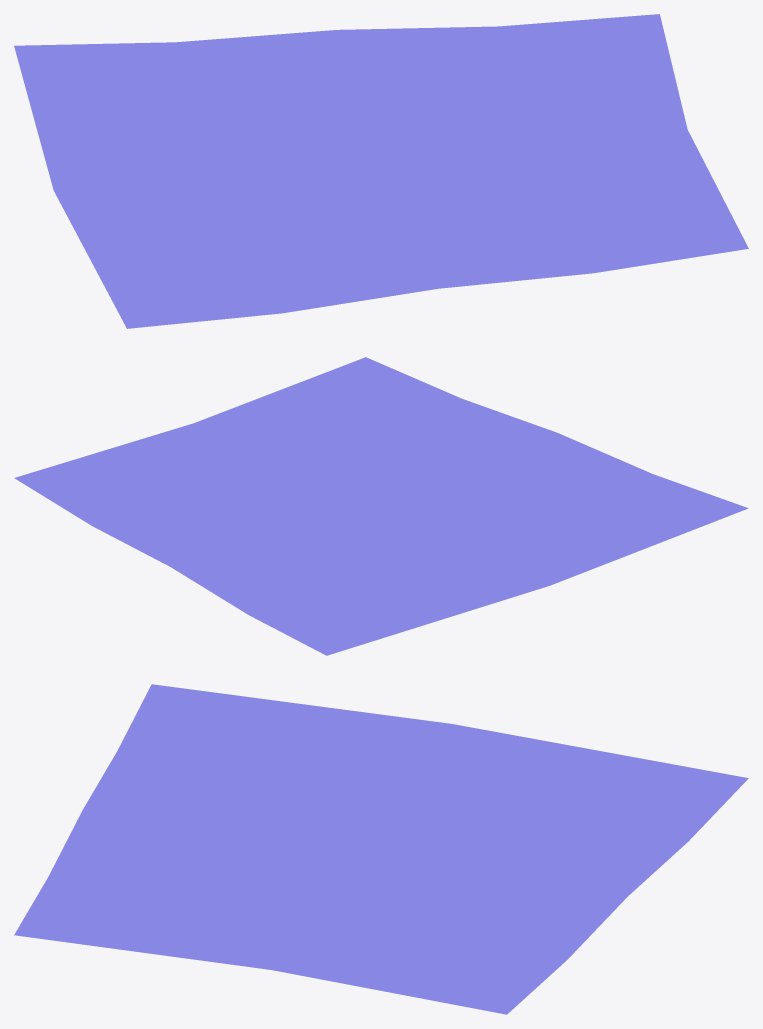
Rendered from track_la_coll_road_30.fbx.
3 renders of one model, top to bottom at view 1: azimuth 30°, elevation 25°; view 2: azimuth 150°, elevation 25°; view 3: azimuth 270°, elevation 25°, orthographic. The views are drawn at different scales.
Parts seen in each view (by area): view 1: track_la_coll_road_30; view 2: track_la_coll_road_30; view 3: track_la_coll_road_30.
Part boxes in pixels (left/top/right/bottom): track_la_coll_road_30: left=14, top=14, right=748, bottom=328; track_la_coll_road_30: left=14, top=357, right=748, bottom=655; track_la_coll_road_30: left=14, top=684, right=748, bottom=1014.
Bounding box in the file's own units: 68.3 × 0.4061 × 64.17.
